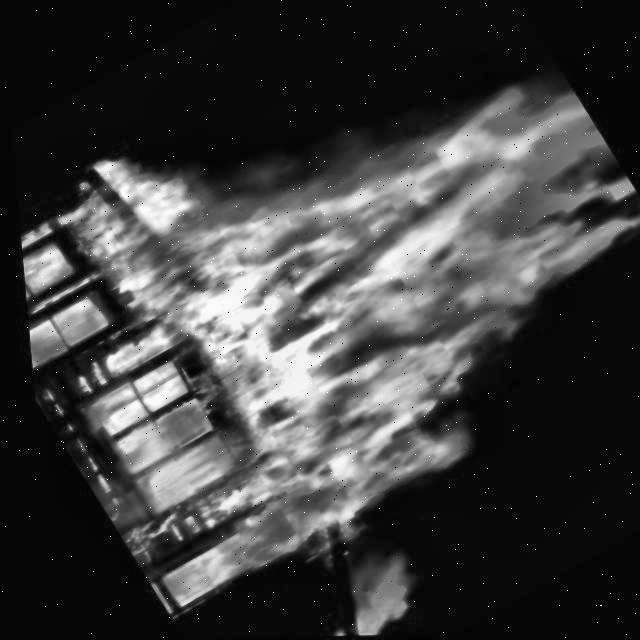Fire: (0, 0, 640, 635), (241, 538, 430, 638)
